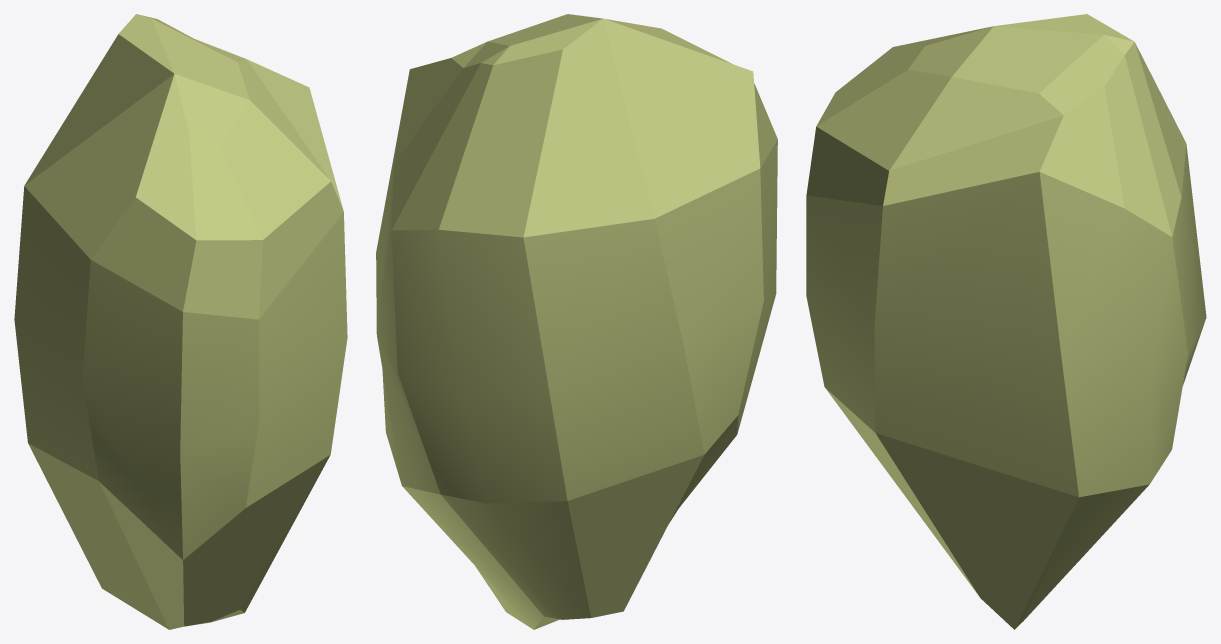
The model's file is SM_Rock2.fbx.
3 renders of one model, left to right at view 1: azimuth 30°, elevation 25°; view 2: azimuth 150°, elevation 25°; view 3: azimuth 270°, elevation 25°, orthographic. The views are drawn at different scales.
Visible parts, largest first — view 1: SM_Rock2; view 2: SM_Rock2; view 3: SM_Rock2.
Boxes of the visible parts, x1,y1,x2,y2 form: SM_Rock2: (14, 14, 347, 629); SM_Rock2: (376, 14, 777, 629); SM_Rock2: (806, 14, 1206, 629).
Size of the model in its own units: 2.45 by 4.52 by 2.83.
